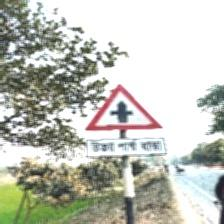Crossroad: (84, 84, 166, 159)
